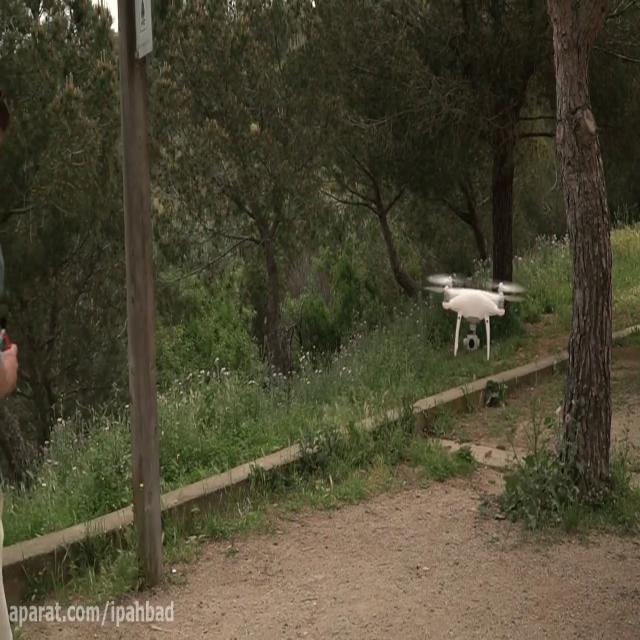drone: (422, 271, 526, 357)
